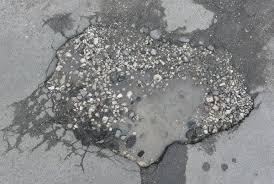pothole: (43, 21, 255, 166)
